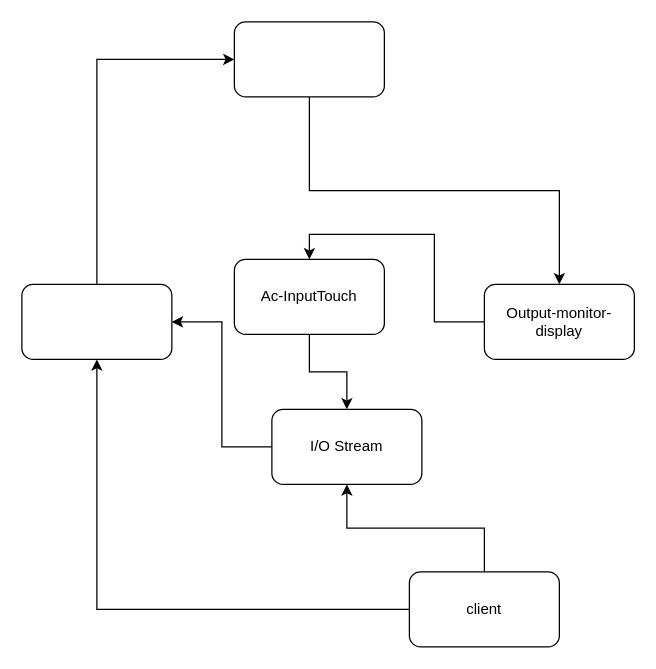
Image size: 656x669. Some labels were removed from this diagram. Each missing label, with the centre of its shape:
"armchair" goes at (308,59).
"TCP Connection" goes at (96,321).
